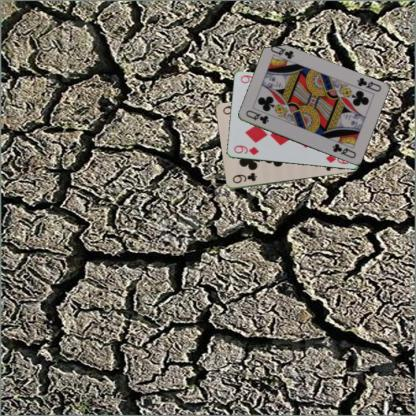9c: (230, 170, 258, 185)
9d: (231, 142, 260, 156)
Qc: (354, 75, 382, 93), (243, 108, 270, 126)
